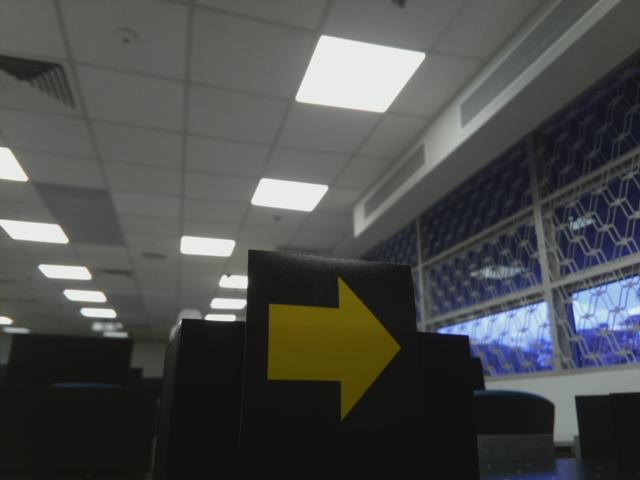right: (251, 266, 421, 425)
